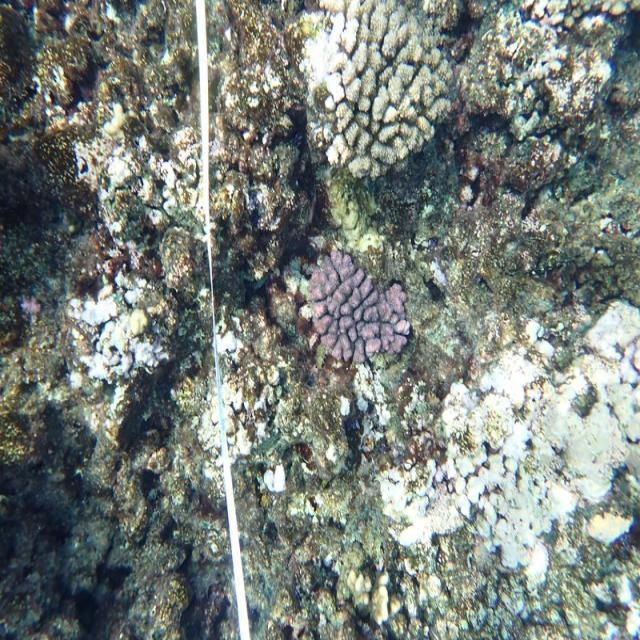Bleached Coral: (372, 333, 640, 591), (179, 347, 297, 507), (63, 297, 187, 383), (284, 23, 366, 109)
Healthy Coral: (303, 221, 405, 380)
